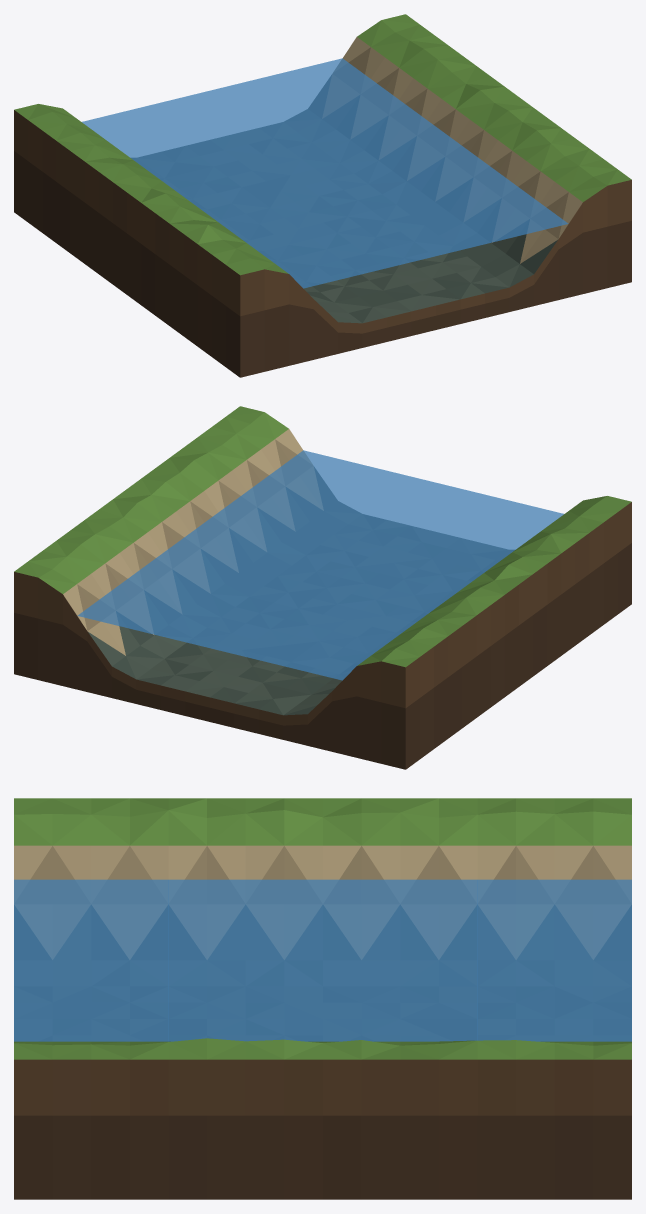
The model's file is river_straight.glb.
3 views of the same model, one above another, from view 1: azimuth 30°, elevation 25°; view 2: azimuth 150°, elevation 25°; view 3: azimuth 270°, elevation 25° (orthographic). The views are drawn at different scales.
Parts seen in each view (by area): view 1: RiverStraight; view 2: RiverStraight; view 3: RiverStraight.
Part boxes in pixels (x1,y1,x2,y2): RiverStraight: [14, 14, 631, 377]; RiverStraight: [14, 406, 631, 769]; RiverStraight: [14, 798, 631, 1199].
Size of the model in its own units: 2 by 0.5176 by 2.
